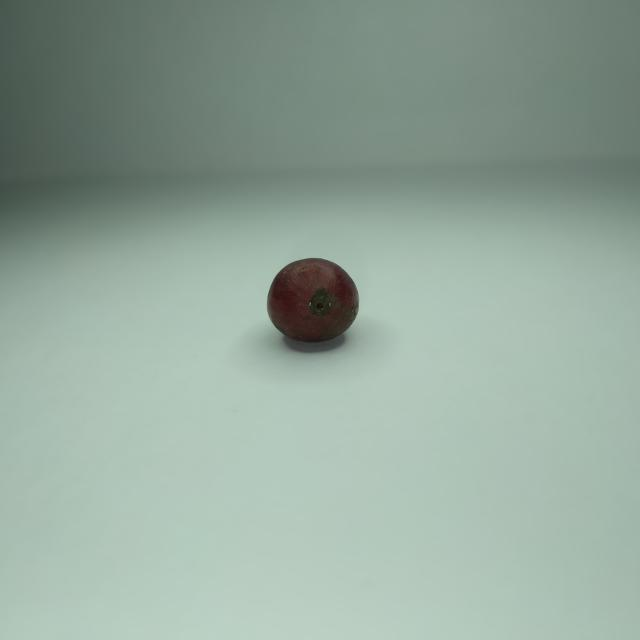Infectado: (269, 258, 358, 341)
